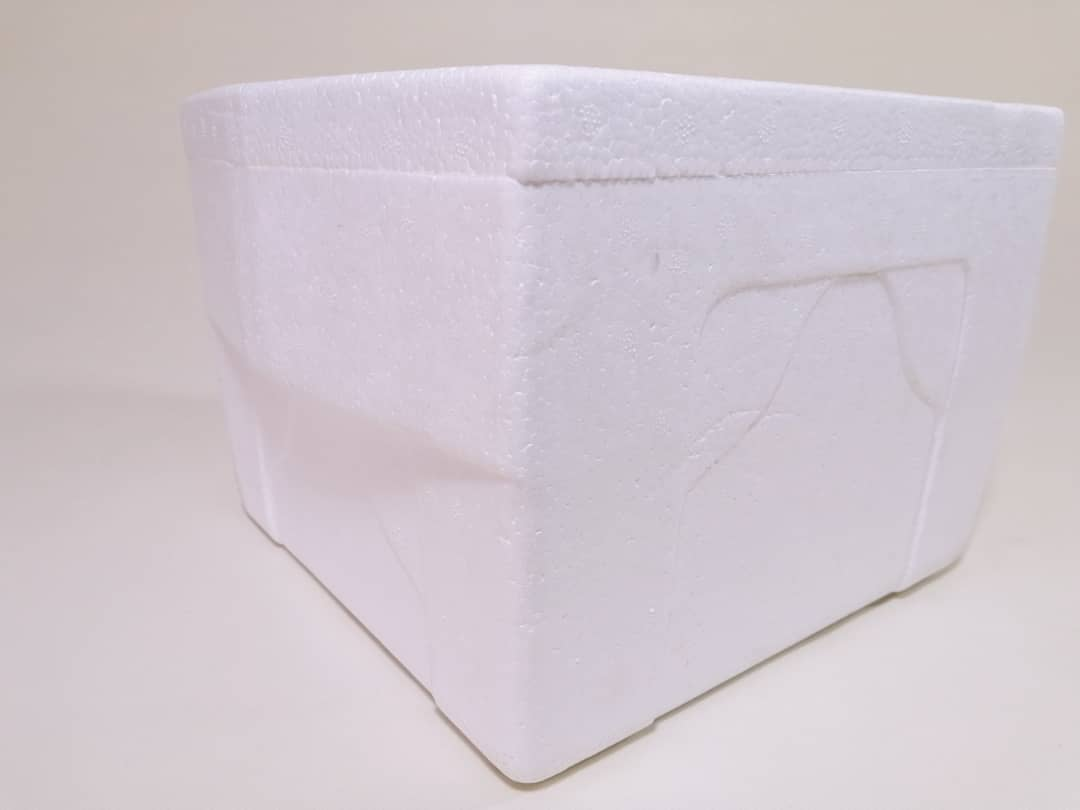Foam Box: (165, 44, 1073, 793)
